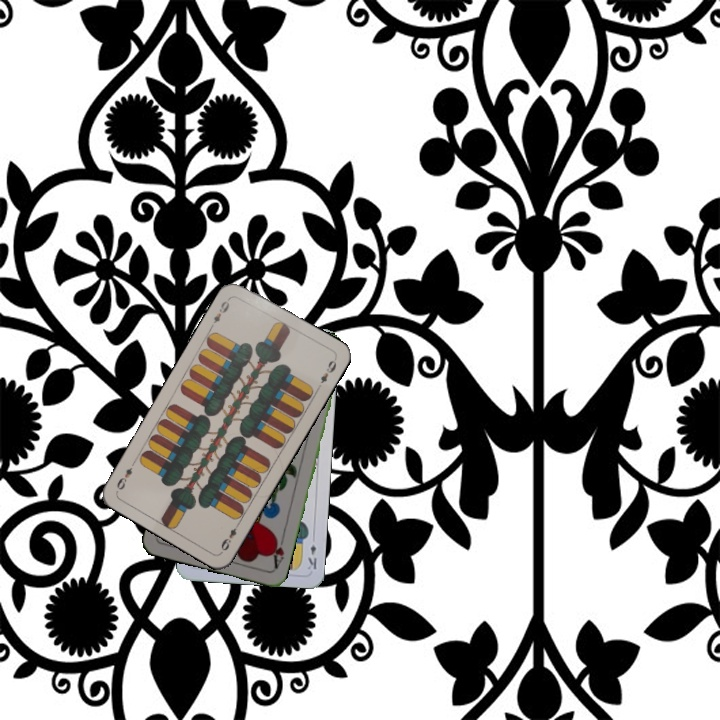E9: (207, 293, 234, 330), (217, 518, 243, 555)
EK: (304, 540, 319, 572)
HA: (267, 531, 287, 572)
